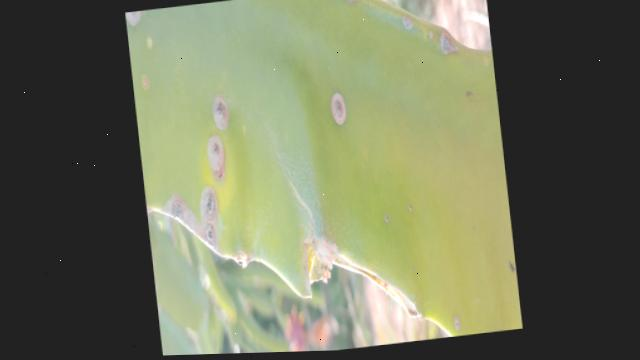stemcanker: (320, 78, 362, 132), (202, 95, 237, 133), (436, 29, 462, 63), (448, 315, 470, 334), (135, 72, 155, 92), (142, 34, 158, 52)
